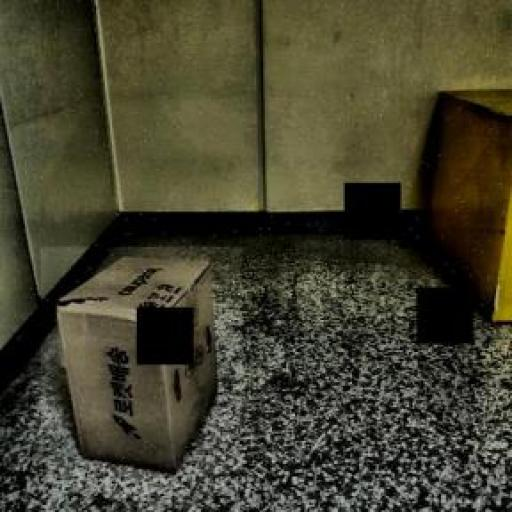box: (40, 246, 243, 494)
